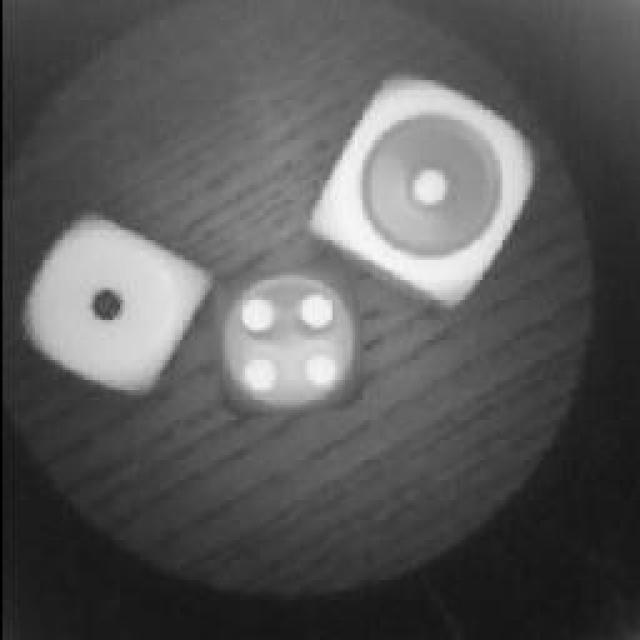dice_1: (305, 70, 547, 302), (10, 203, 208, 395)
dice_4: (202, 262, 368, 430)
